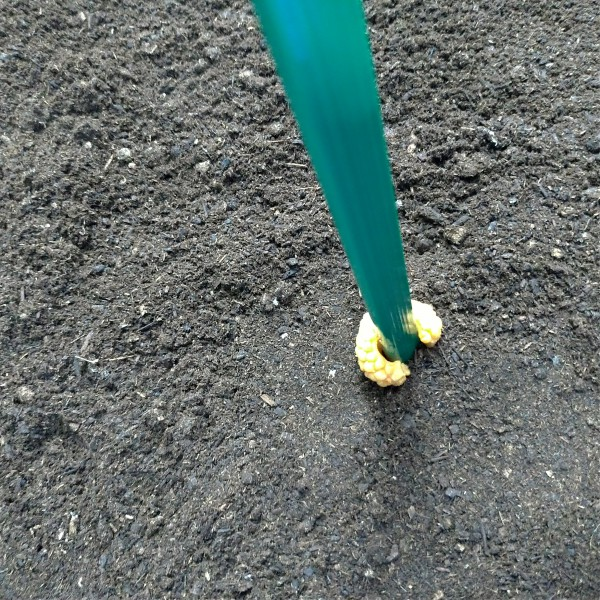eggs: (352, 297, 446, 393)
